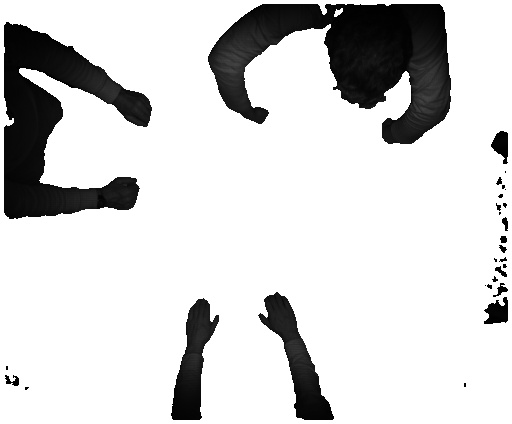fist: (103, 176, 143, 215), (119, 92, 151, 127), (251, 107, 271, 127)
hand: (256, 288, 309, 337), (184, 296, 223, 349)
